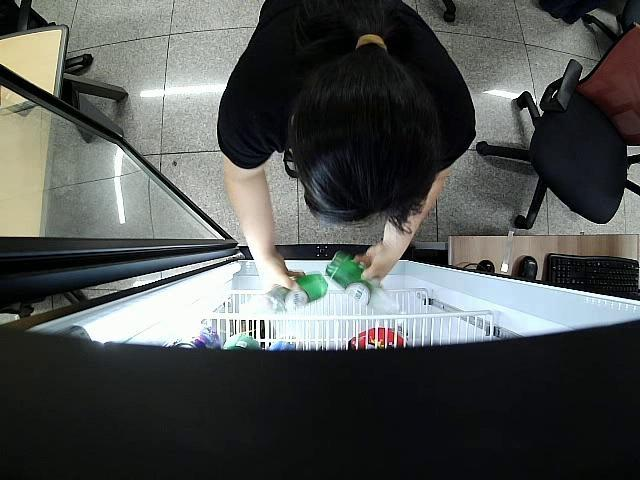18_trevi: (326, 256, 410, 327), (257, 272, 327, 314)
